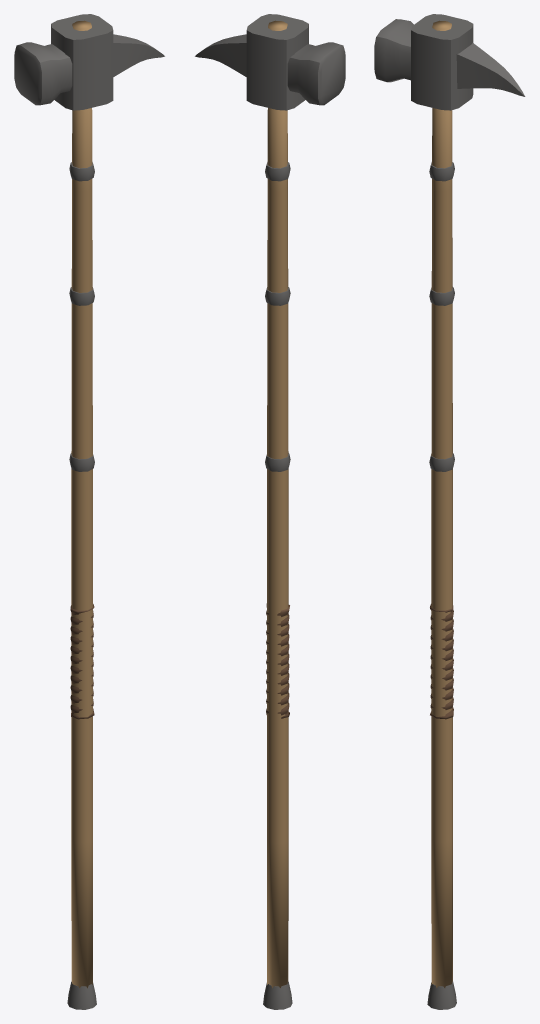
The model's file is dwarven-longhammer.glb.
3 views of the same model, side by side, from view 1: azimuth 30°, elevation 25°; view 2: azimuth 150°, elevation 25°; view 3: azimuth 330°, elevation 25° (orthographic).
Visible parts, largest first — view 1: dwarven-longhammer; view 2: dwarven-longhammer; view 3: dwarven-longhammer.
Boxes of the visible parts, left/top/right/bottom form: dwarven-longhammer: left=14, top=14, right=164, bottom=1009; dwarven-longhammer: left=195, top=14, right=345, bottom=1009; dwarven-longhammer: left=374, top=14, right=525, bottom=1009.
Size of the model in its own units: 0.7 by 4.72 by 0.241.
